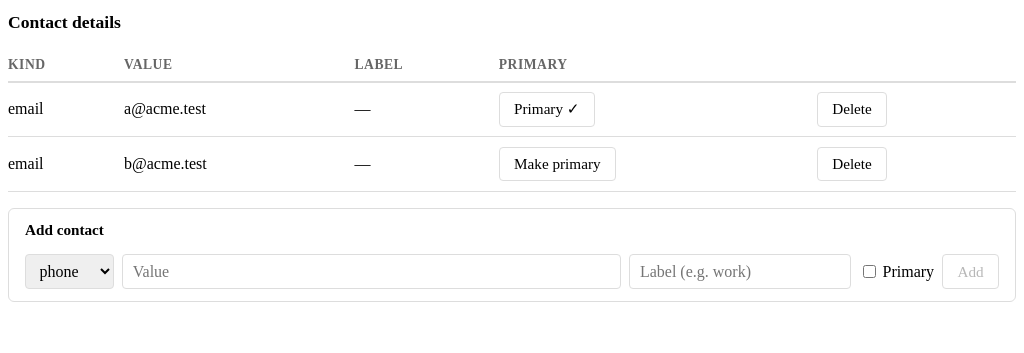
ContactDetailsPanel › blocks promoting a second primary of the same kind before submitting
This screenshot has width=1024, height=353.
Expected: the text "b@acme.test" is shown, [124, 137, 354, 191]
Step 1. Click the button with aria-label "Promote b@acme.test" → (557, 164), box [499, 147, 616, 181]
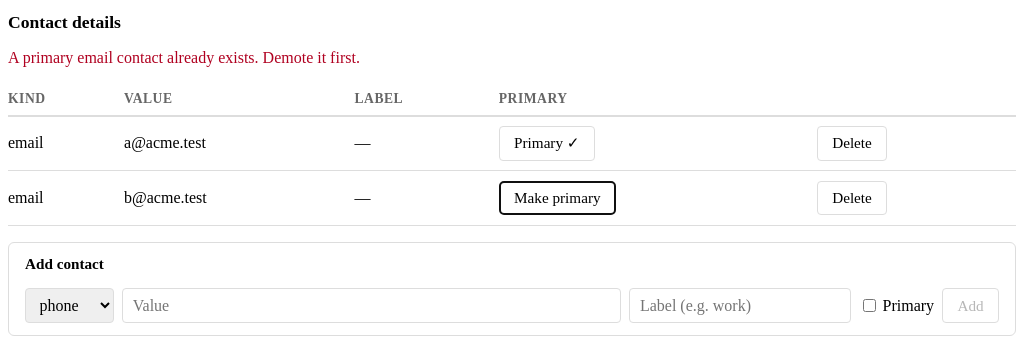
Expected: the message shows "A primary email contact already exists", [8, 49, 360, 66]
